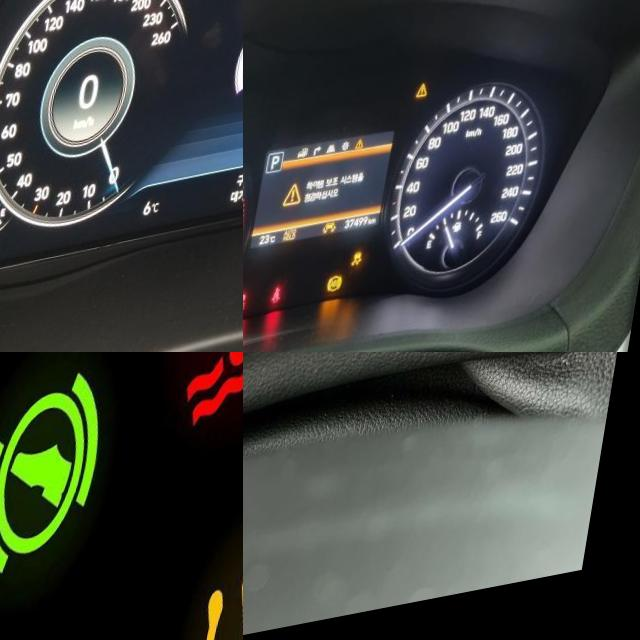Central Warning lamp: (293, 191, 314, 217), (423, 96, 437, 114)
High Engine Coolant Temperature: (177, 352, 243, 456)
